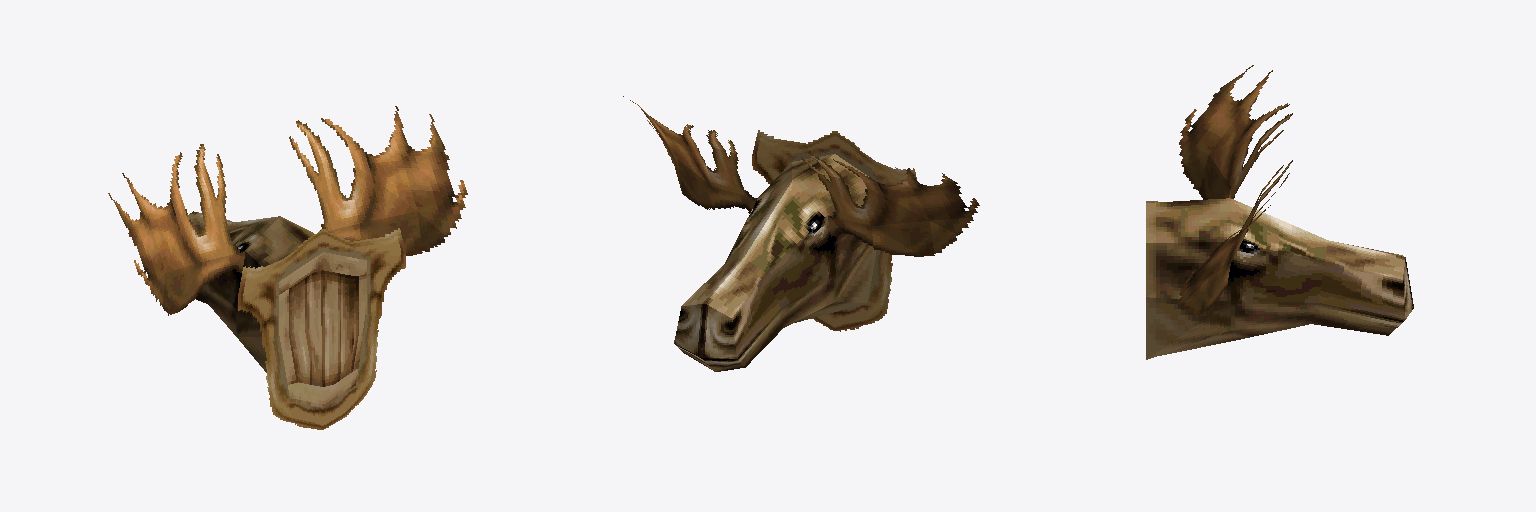
3 renders of one model, left to right at view 1: azimuth 30°, elevation 25°; view 2: azimuth 150°, elevation 25°; view 3: azimuth 270°, elevation 25°, orthographic.
Parts seen in each view (by area): view 1: T1L2M007_2; view 2: T1L2M007_2; view 3: T1L2M007_2.
Part boxes in pixels (x1,y1,x2,y2): T1L2M007_2: (108, 106, 467, 429); T1L2M007_2: (623, 96, 979, 371); T1L2M007_2: (1146, 65, 1413, 359).
Bounding box in the file's own units: 2.42 × 1.76 × 1.7.
Materials: 1 (1 with a texture image).